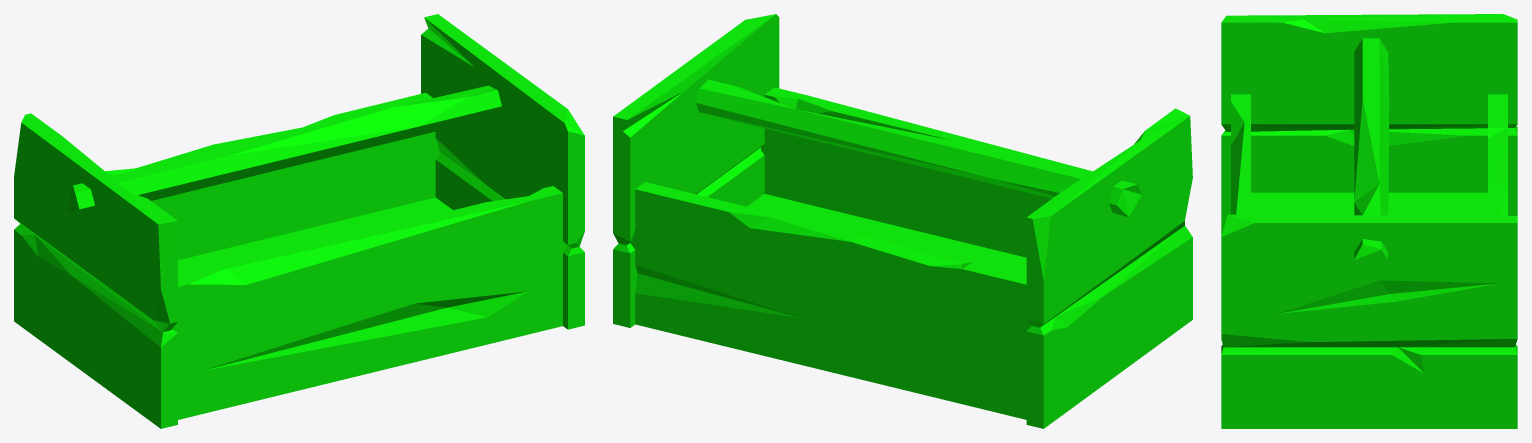
The model's file is SM_Toolbox_Small_Fantasy.fbx.
The picture shows the model from 3 angles, left to right: view 1: azimuth 30°, elevation 25°; view 2: azimuth 150°, elevation 25°; view 3: azimuth 270°, elevation 25°; orthographic projection.
Visible parts, largest first — view 1: toolbox-small-fantasy; view 2: toolbox-small-fantasy; view 3: toolbox-small-fantasy.
Boxes of the visible parts, x1,y1,x2,y2 form: toolbox-small-fantasy: (14,14,584,428); toolbox-small-fantasy: (613,14,1192,428); toolbox-small-fantasy: (1221,14,1517,428).
Bounding box in the file's own units: 0.5373 × 0.2302 × 0.3.
